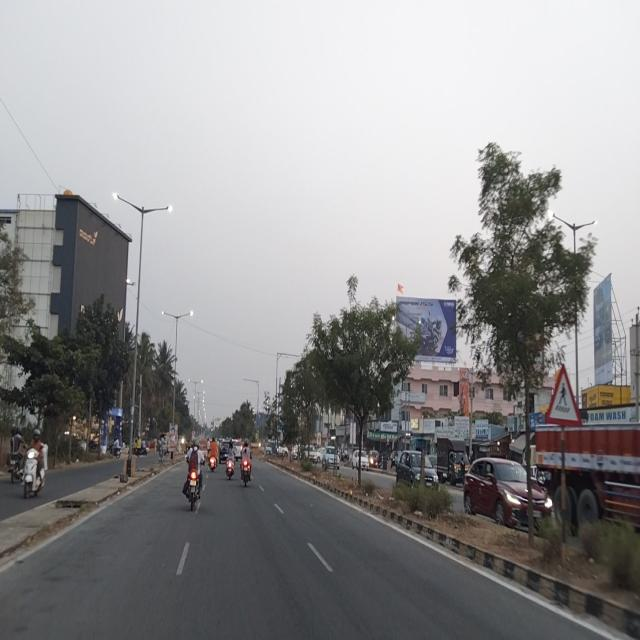bien_cam: (544, 361, 583, 431)
